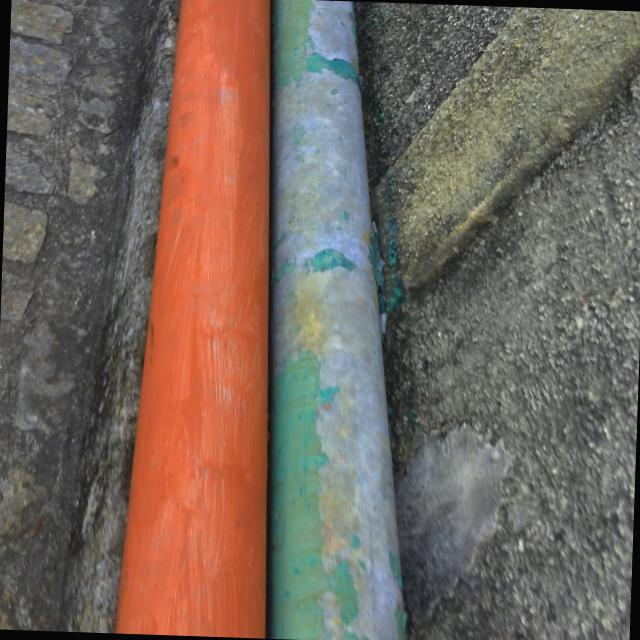gas: (257, 0, 439, 640), (111, 0, 289, 638)
